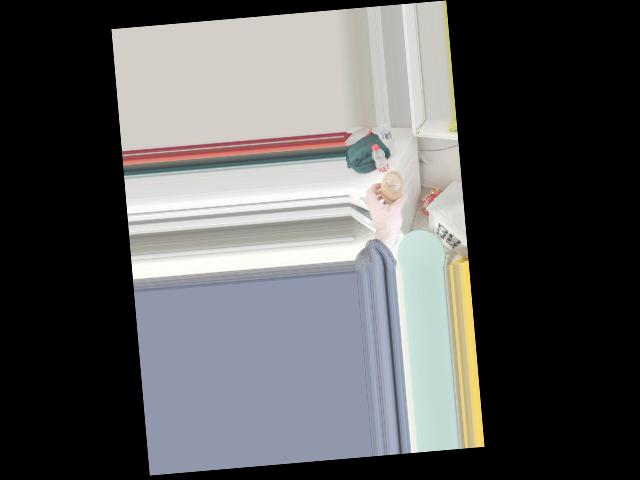sweet_potato: (377, 168, 408, 208)
